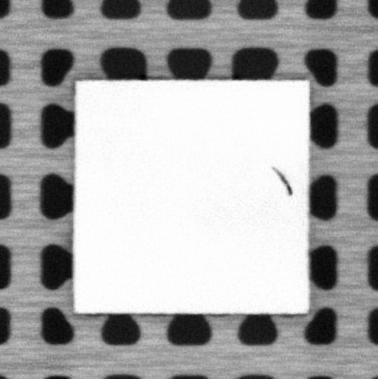DIE_INK: (270, 165, 293, 196)
